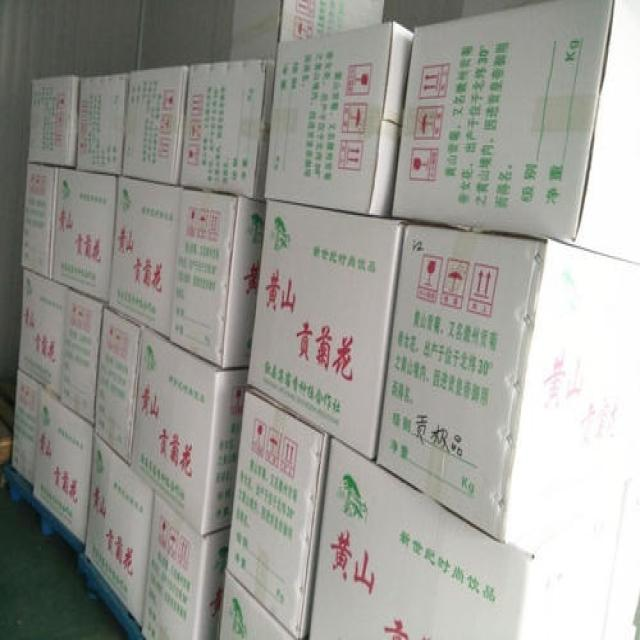box: (374, 222, 640, 543), (307, 437, 640, 640), (392, 0, 640, 265), (247, 200, 404, 461), (264, 22, 412, 217), (225, 384, 329, 640), (131, 324, 247, 534), (170, 188, 265, 369), (84, 430, 154, 626), (180, 60, 275, 200), (141, 490, 229, 640), (108, 176, 180, 340), (230, 0, 385, 60), (33, 387, 92, 543), (51, 169, 116, 304), (122, 65, 188, 184), (95, 305, 140, 464), (18, 270, 68, 399), (60, 288, 102, 425), (74, 73, 128, 174), (218, 572, 294, 640), (28, 73, 78, 167), (20, 164, 56, 278), (12, 370, 40, 485)
